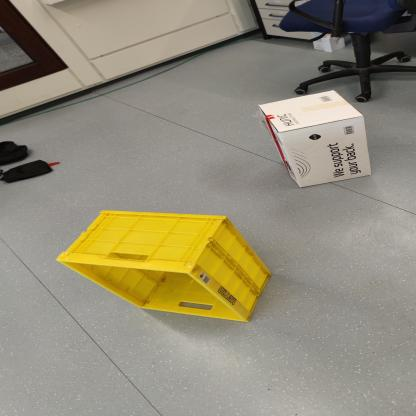box: (54, 192, 281, 348), (233, 81, 402, 193)
